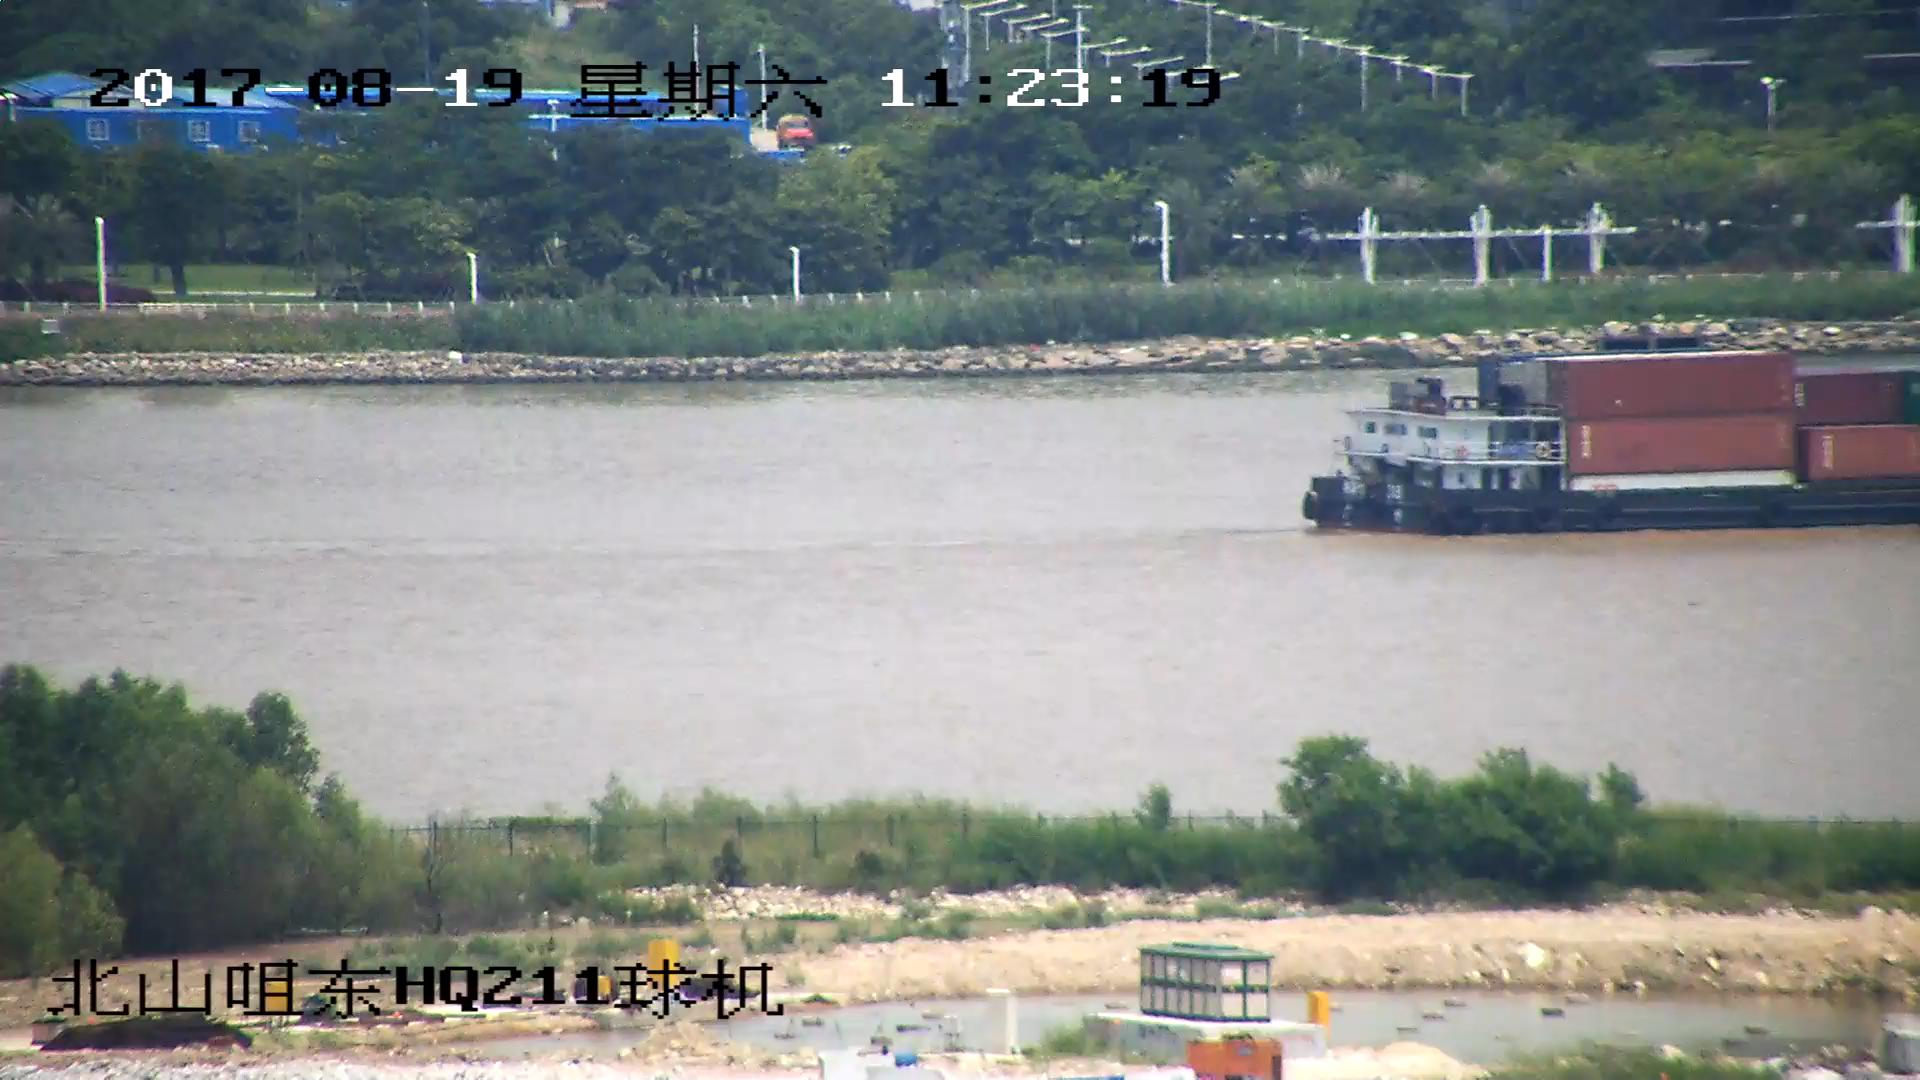container ship: (1303, 345, 1920, 532)
